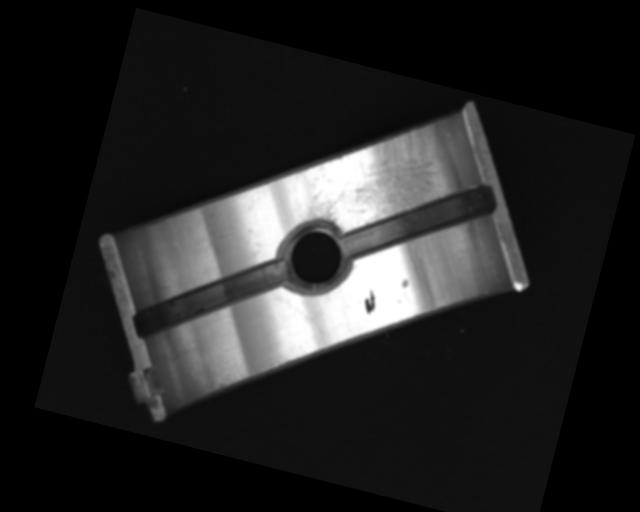blot: (360, 288, 379, 315)
bruise: (400, 277, 410, 289)
gap: (128, 228, 294, 369), (343, 155, 501, 286)
hole: (269, 214, 358, 300)
scratch: (299, 97, 457, 254)
